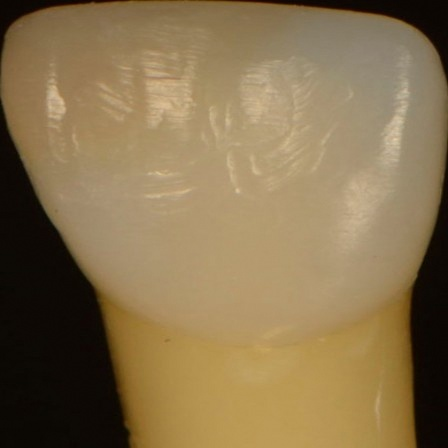coin_1: (101, 293, 121, 313)
coin_2: (54, 231, 74, 251)
coin_3: (414, 277, 434, 297)
coin_4: (441, 207, 448, 227)
